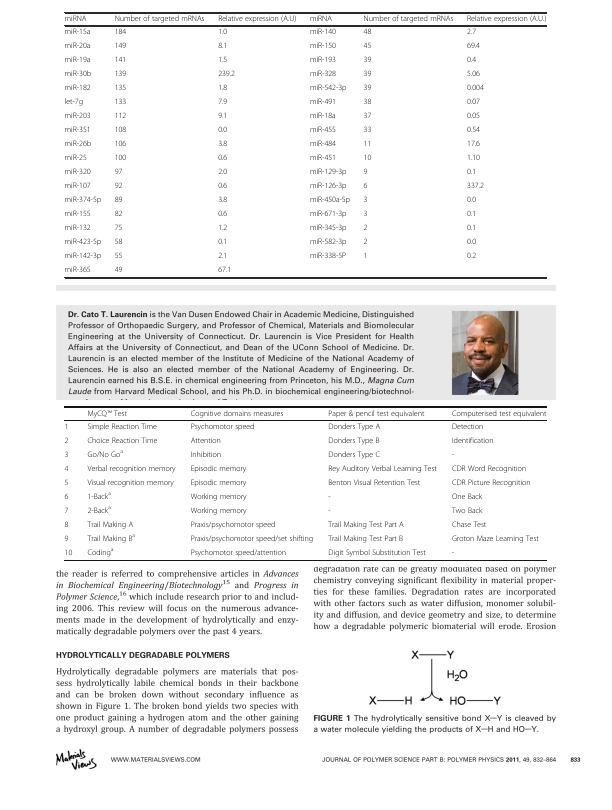borderless: (63, 11, 546, 277), (64, 405, 547, 560)
cell: (190, 534, 314, 544), (327, 464, 438, 474), (327, 548, 427, 558), (190, 548, 287, 558), (327, 478, 421, 488), (86, 464, 176, 474), (86, 478, 175, 488), (451, 534, 540, 544), (327, 409, 425, 418), (451, 409, 547, 418), (190, 520, 276, 530), (190, 409, 284, 418), (362, 15, 454, 24), (114, 15, 205, 24), (451, 478, 532, 488), (327, 520, 405, 530), (327, 534, 404, 544), (451, 464, 527, 474), (466, 15, 547, 24), (217, 15, 297, 24), (86, 422, 158, 432), (86, 436, 158, 446), (190, 422, 255, 432), (86, 532, 136, 544), (190, 492, 248, 502), (190, 506, 248, 516), (190, 464, 247, 474), (190, 478, 247, 488), (327, 422, 381, 432), (327, 450, 381, 460), (327, 436, 380, 446), (86, 520, 134, 530), (86, 448, 124, 460), (451, 436, 494, 446), (309, 196, 351, 206), (309, 84, 347, 94), (309, 168, 347, 178), (309, 182, 347, 192), (64, 196, 102, 206), (309, 210, 347, 220), (309, 224, 347, 234), (64, 238, 102, 248), (309, 238, 347, 248), (64, 252, 102, 262), (309, 252, 347, 262), (86, 409, 128, 418), (451, 520, 487, 530), (86, 546, 114, 558), (451, 422, 484, 432), (190, 436, 222, 446), (190, 450, 222, 460), (451, 492, 483, 502), (451, 506, 483, 516), (86, 490, 112, 502), (86, 504, 112, 516), (309, 28, 337, 38), (309, 42, 337, 52), (309, 56, 337, 66), (64, 70, 92, 80), (309, 70, 337, 80), (309, 98, 337, 108), (309, 112, 337, 122), (309, 126, 337, 136), (64, 140, 92, 150), (309, 140, 337, 150), (309, 154, 337, 164), (64, 28, 91, 38), (64, 42, 91, 52), (64, 56, 91, 66), (64, 84, 91, 94), (64, 112, 91, 122), (64, 126, 91, 136), (64, 168, 91, 178), (64, 182, 91, 192), (64, 210, 91, 220), (64, 224, 91, 234), (64, 266, 91, 276), (64, 154, 88, 164), (309, 15, 333, 24), (64, 15, 87, 24), (64, 98, 84, 108), (217, 70, 236, 80), (466, 84, 485, 94), (466, 182, 485, 192), (466, 42, 481, 52), (466, 70, 481, 80), (466, 98, 481, 108), (466, 112, 481, 122), (466, 126, 481, 136), (466, 140, 481, 150), (466, 154, 481, 164), (217, 266, 232, 276), (114, 28, 127, 38), (114, 42, 127, 52), (114, 56, 127, 66), (114, 70, 127, 80), (114, 84, 127, 94), (114, 98, 127, 108), (114, 112, 127, 122), (114, 126, 127, 136), (114, 140, 127, 150), (114, 154, 127, 164), (217, 28, 228, 38), (466, 28, 477, 38), (217, 42, 228, 52), (217, 56, 228, 66), (466, 56, 477, 66), (217, 84, 228, 94), (217, 98, 228, 108), (217, 112, 228, 122), (217, 126, 228, 136), (217, 140, 228, 150), (217, 154, 228, 164), (217, 168, 228, 178), (466, 168, 477, 178), (217, 182, 228, 192), (217, 196, 228, 206), (466, 196, 477, 206), (217, 210, 228, 220), (466, 210, 477, 220), (217, 224, 228, 234), (466, 224, 477, 234), (217, 238, 228, 248), (466, 238, 477, 248), (217, 252, 228, 262), (466, 252, 477, 262), (362, 28, 372, 38), (362, 42, 372, 52), (362, 56, 372, 66), (362, 70, 372, 80), (362, 84, 372, 94), (362, 98, 372, 108), (362, 112, 372, 122), (362, 126, 372, 136), (362, 140, 372, 150), (362, 154, 372, 164), (114, 168, 123, 178), (114, 182, 123, 192), (114, 196, 123, 206), (114, 210, 123, 220), (114, 224, 123, 234), (114, 238, 123, 248), (114, 252, 123, 262), (114, 266, 123, 276), (64, 548, 73, 558), (362, 168, 368, 178), (362, 182, 368, 192), (362, 196, 368, 206), (362, 210, 368, 220), (362, 224, 368, 234), (362, 238, 368, 248), (362, 252, 368, 262), (63, 422, 69, 432), (63, 436, 69, 446), (63, 450, 69, 460), (64, 464, 69, 474), (64, 478, 69, 488), (64, 492, 69, 502), (327, 492, 332, 502), (64, 506, 69, 516), (327, 506, 332, 516), (64, 520, 69, 530), (64, 534, 69, 544), (451, 450, 455, 460), (451, 548, 455, 558)
